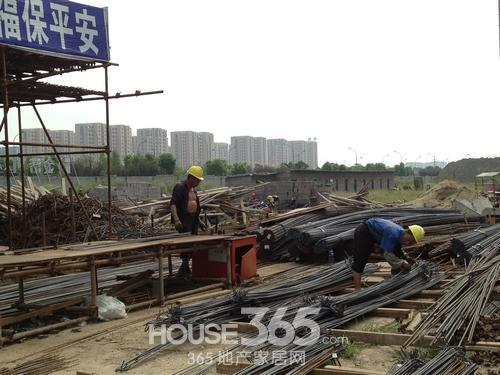hard-hat: (408, 224, 425, 243), (186, 164, 204, 180)
person: (350, 216, 425, 290), (169, 164, 206, 276)
